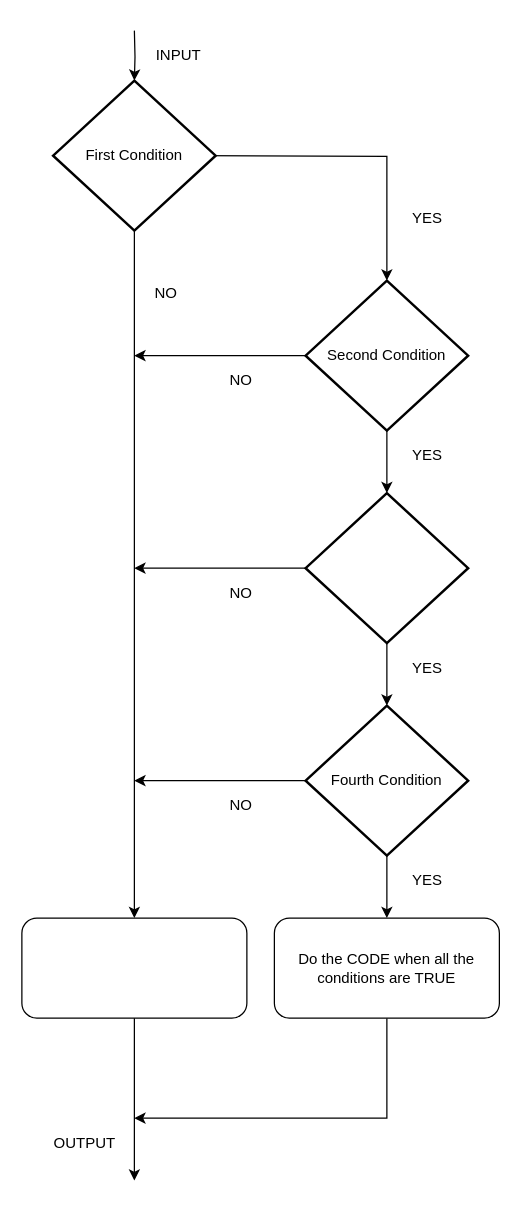
The diagram is 521 pixels wide and 1213 high, and some of its shapes have lost their labels. The shapes that lost their labels are listed below. From the top down, each one's centre as x and y in pixels, then its label:
At [386,567]: "Third Condition".
At [134,967]: "Do the CODE when each one of the conditions is not TRUE".
